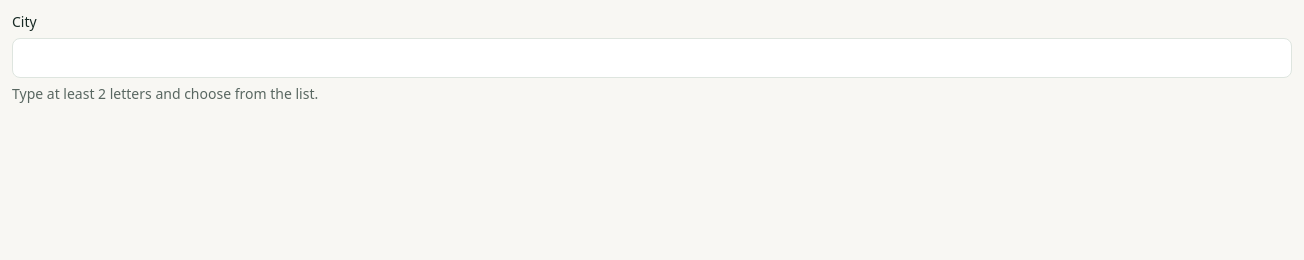
Scenario: the place picker › chooses a place with the mouse
Type "pu" into the dropdown labelled "City". click: x=652, y=58
box: [12,38,1292,78]
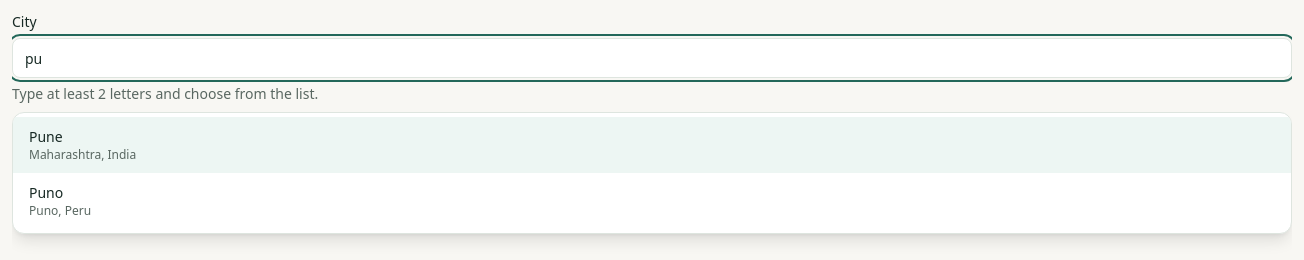
Click the option with aria-label "Puno, Puno, Peru". click: x=60, y=201
box: [29,183,91,219]
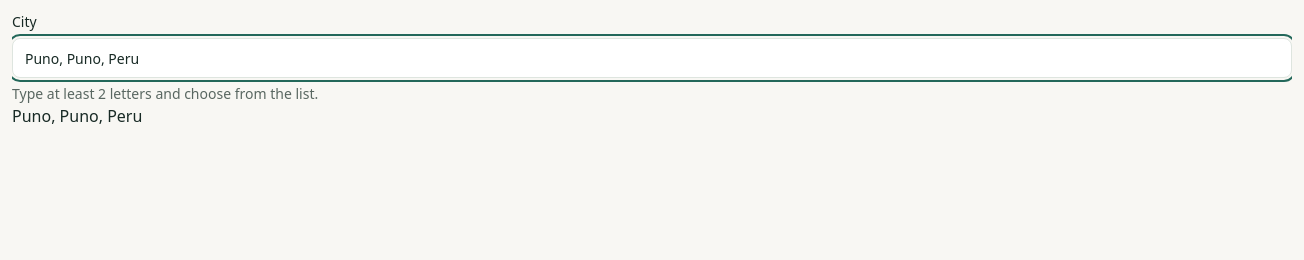
Check: the dropdown labelled "City" holds "Puno, Puno, Peru", box [12,38,1292,78]
Check: the text with test id "chosen" reads "Puno, Puno, Peru", box [12,105,142,127]
Check: the list is gone
